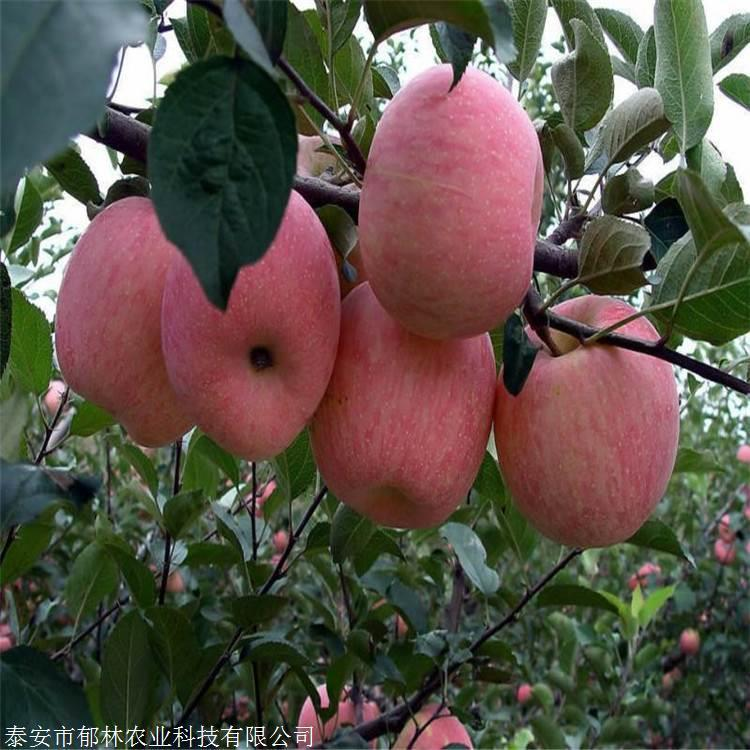apple: (357, 61, 542, 343), (161, 190, 345, 462), (493, 299, 682, 544), (309, 282, 496, 522), (57, 196, 197, 449)
